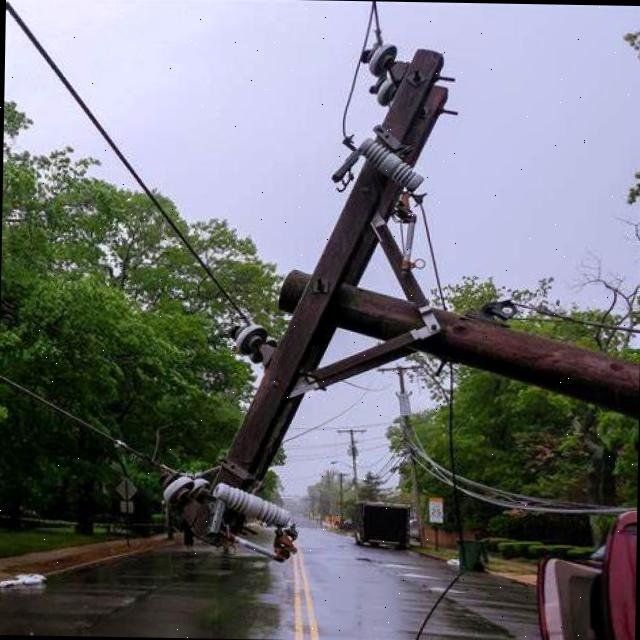Broken Pole: (158, 45, 639, 583)
